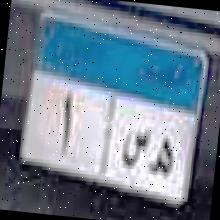1: (57, 86, 78, 156)
haa: (146, 124, 176, 182)
seen: (116, 120, 152, 176)
